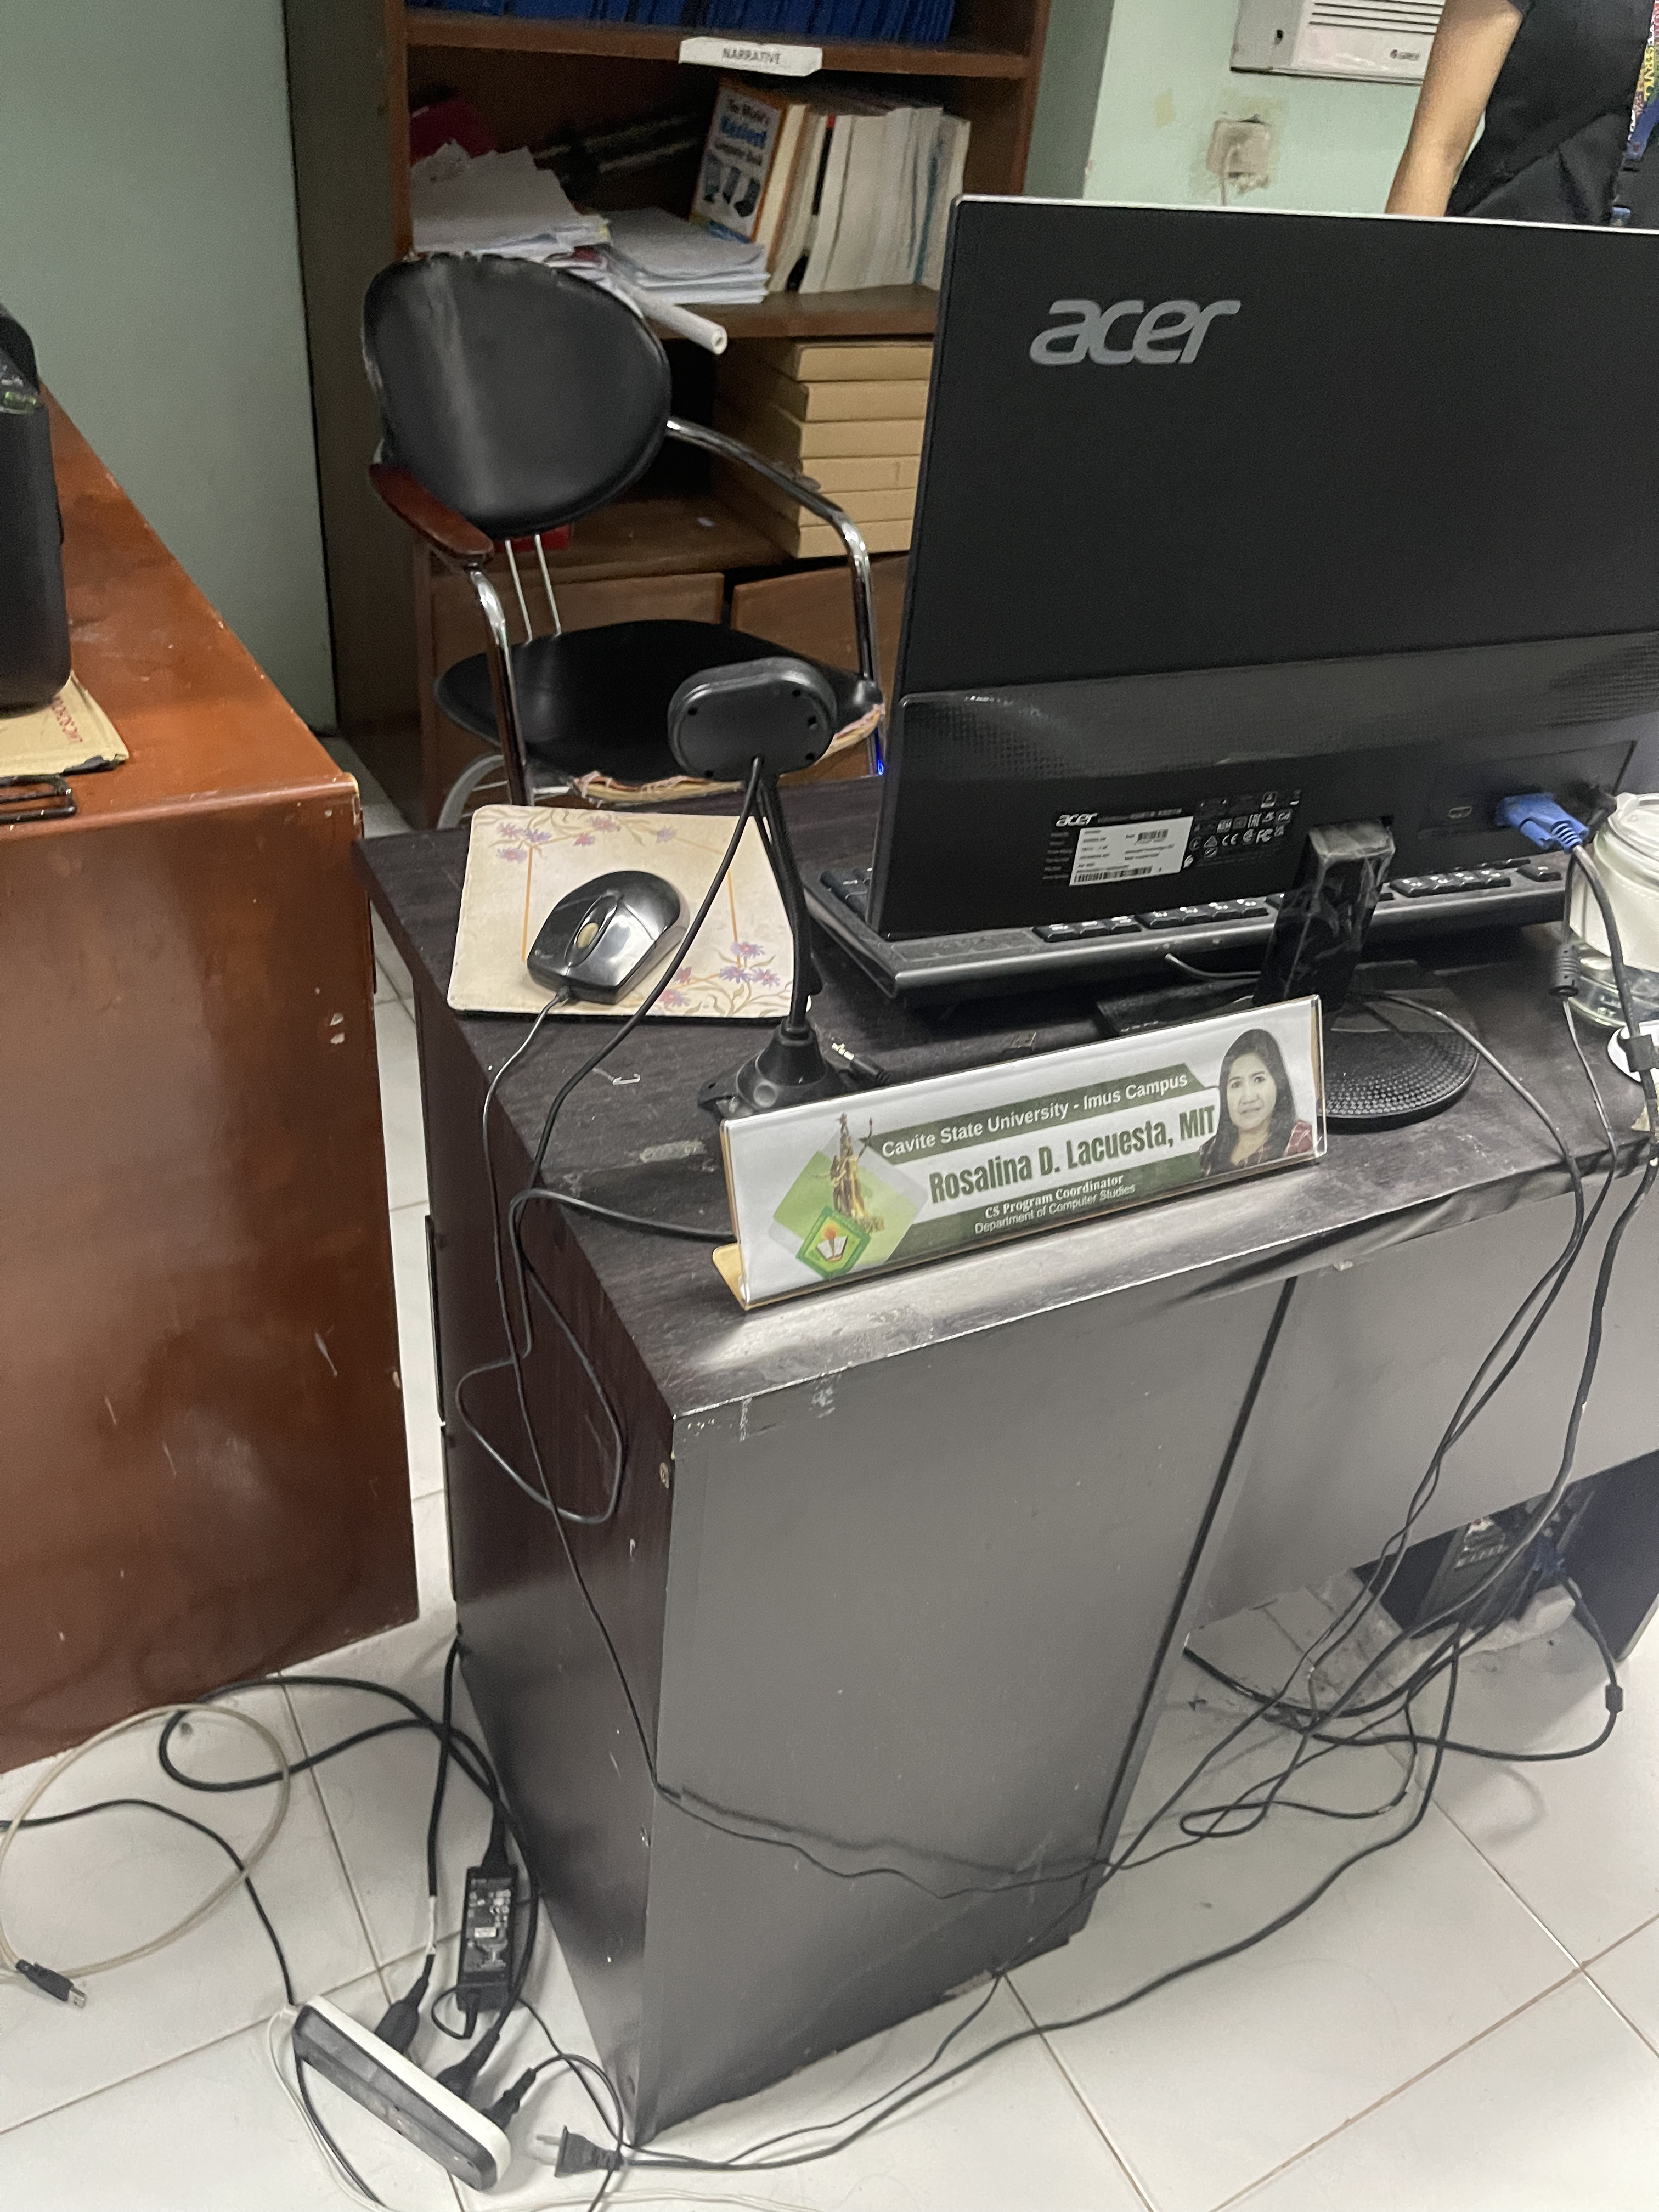table1: (328, 799, 1659, 2141)
